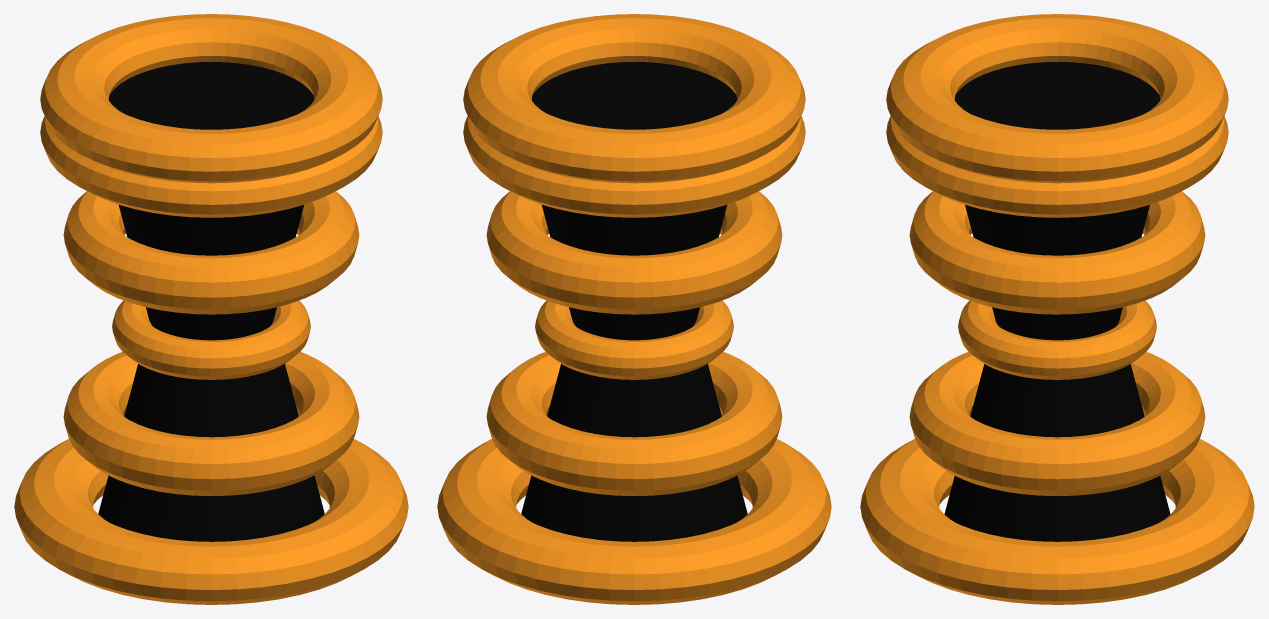
The model's file is Narancs torony.glb.
The picture shows the model from 3 angles, left to right: view 1: azimuth 30°, elevation 25°; view 2: azimuth 150°, elevation 25°; view 3: azimuth 270°, elevation 25°; orthographic projection.
Parts seen in each view (by area): view 1: Torus.004; view 2: Torus.004; view 3: Torus.004.
Boxes of the visible parts, x1=… form: Torus.004: x1=14, y1=14, x2=408, y2=604; Torus.004: x1=437, y1=14, x2=831, y2=604; Torus.004: x1=860, y1=14, x2=1254, y2=604.
Bounding box in the file's own units: 2.5 × 3.21 × 2.5.
